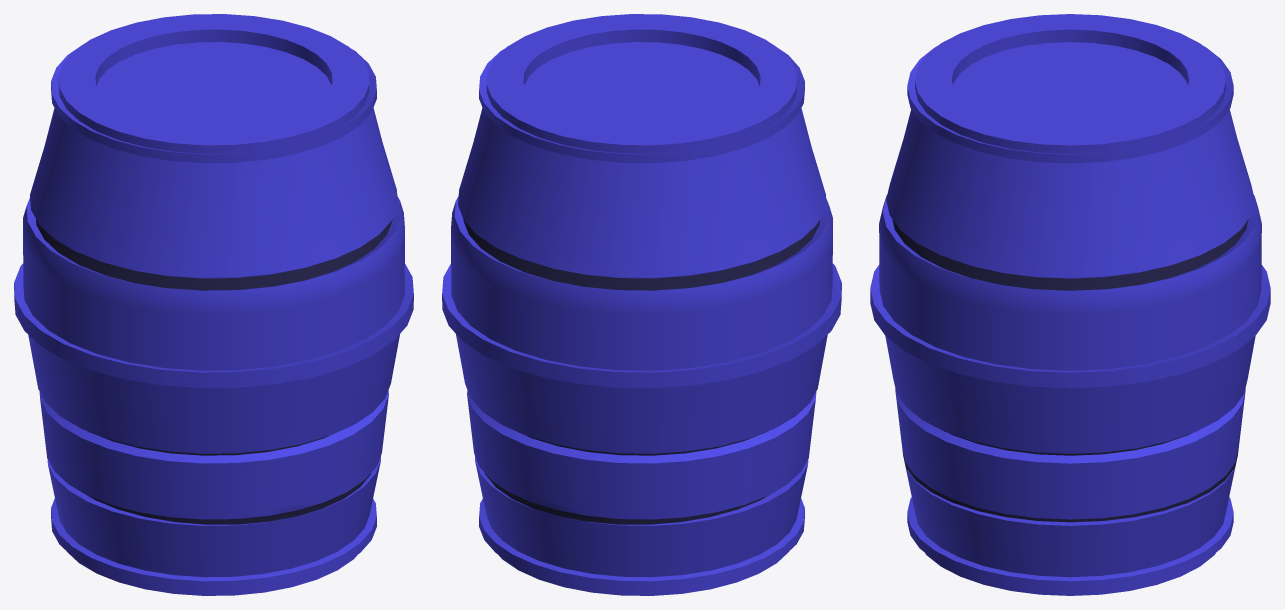
The model's file is barrel.fbx.
The picture shows the model from 3 angles, left to right: view 1: azimuth 30°, elevation 25°; view 2: azimuth 150°, elevation 25°; view 3: azimuth 270°, elevation 25°; orthographic projection.
Parts seen in each view (by area): view 1: Cylinder; view 2: Cylinder; view 3: Cylinder.
Boxes of the visible parts, x1,y1,x2,y2 form: Cylinder: (14, 14, 413, 595); Cylinder: (442, 14, 841, 595); Cylinder: (870, 14, 1270, 595).
Bounding box in the file's own units: 257 × 319 × 257.
